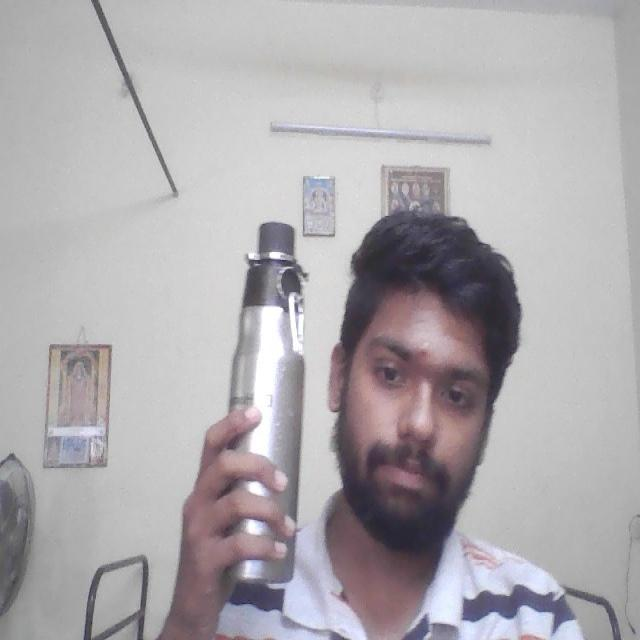Drinking: (225, 213, 313, 586)
